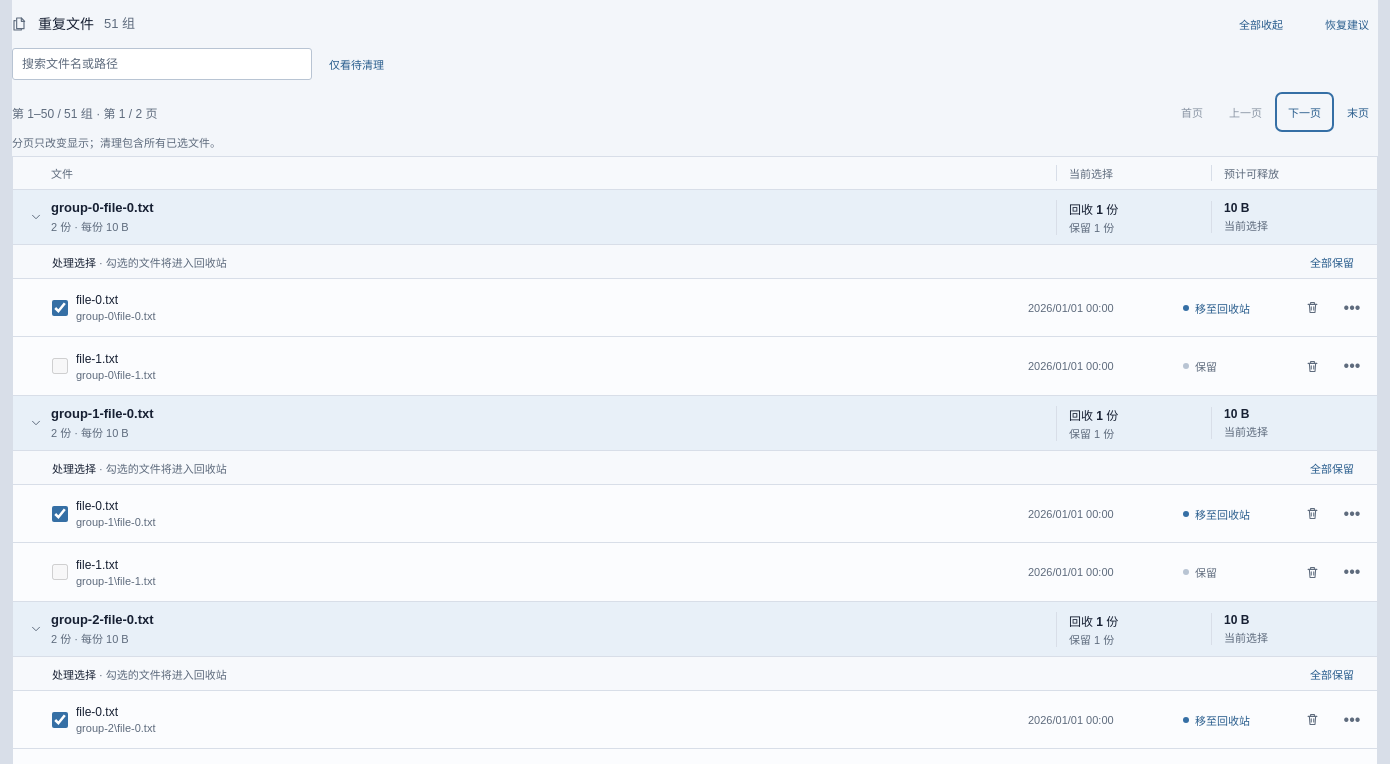
Test: 审阅显示分页 › 只挂载当前50组，键盘翻页后保留跨页选择与有效焦点
Press Enter
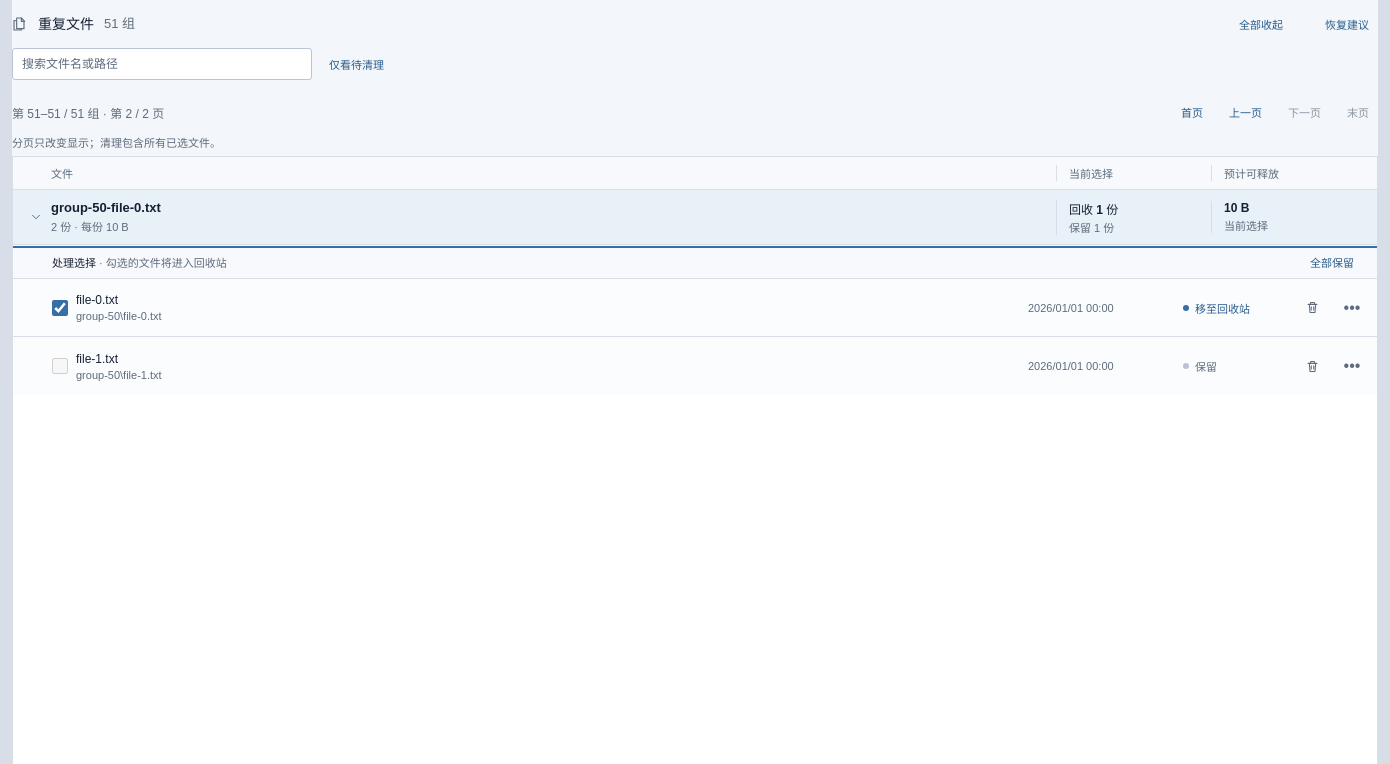
Expected: the number of elements with class "review-group" is 1, [13,190,1377,395]
Click the checkbox named "移至回收站 group-50-file-0.txt" at (60,308), box [52,300,68,316]
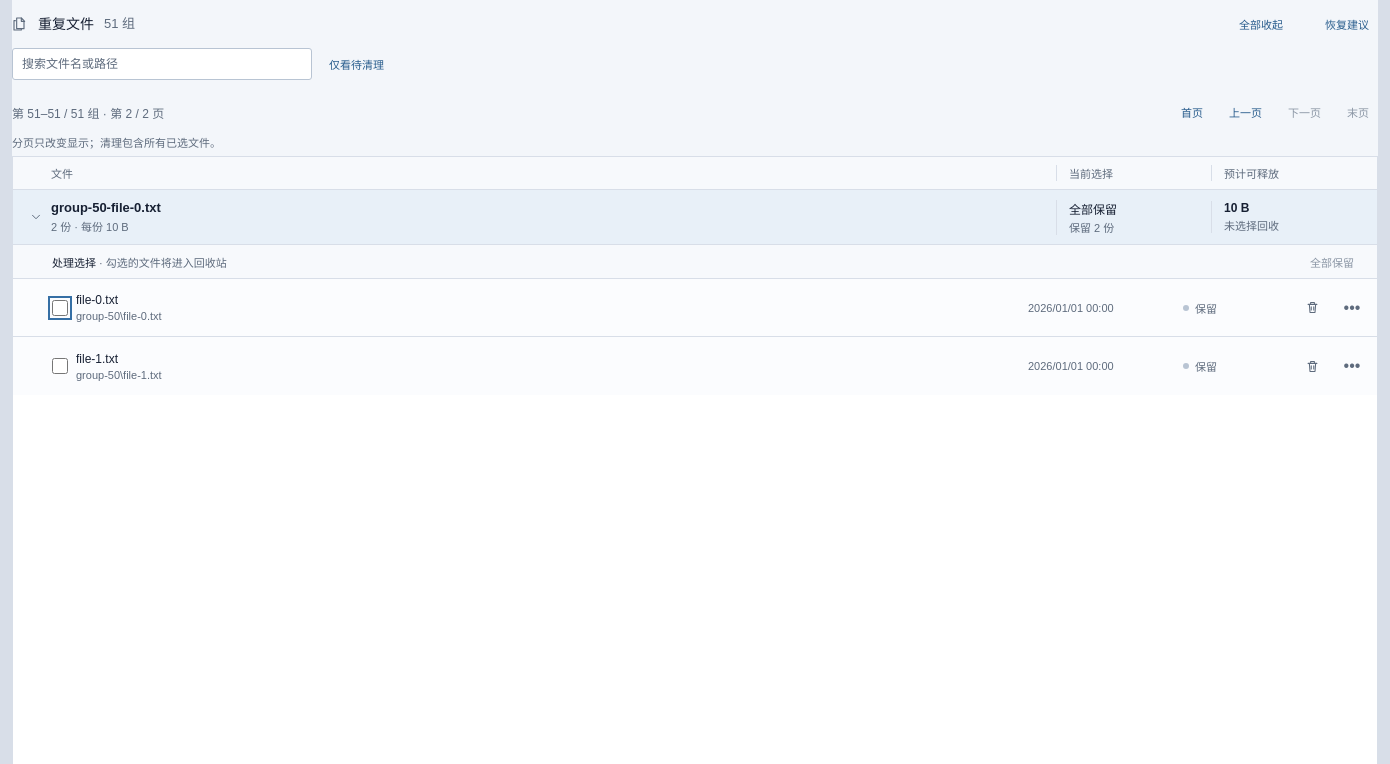
Expected: the checkbox named "移至回收站 group-50-file-0.txt" is not checked, [52,300,68,316]
Click the button with aria-label "重复组：第一页" at (1192,112), box [1172,96,1212,128]
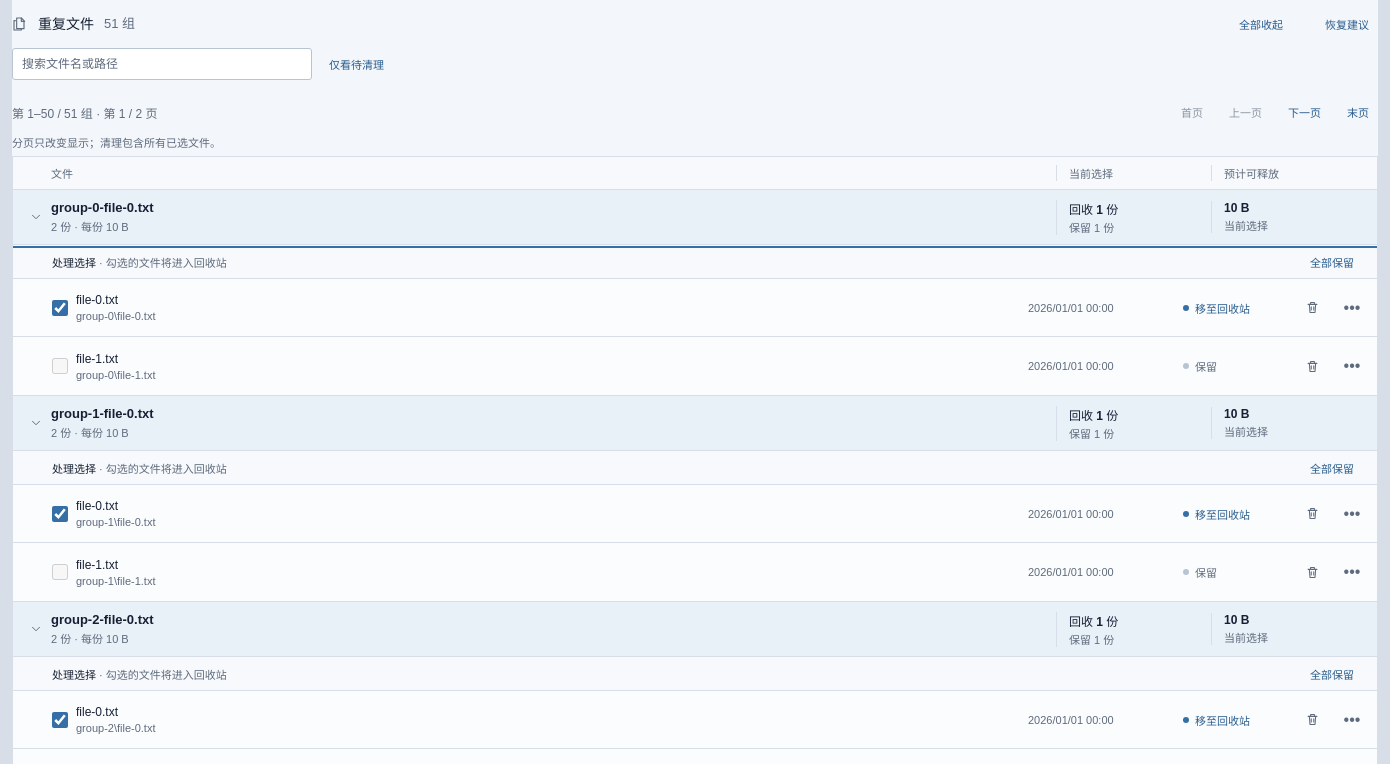
Expected: the checkbox named "移至回收站 group-0-file-0.txt" is checked, [52,300,68,316]
Click the button with aria-label "重复组：最后一页" at (1358,112), box [1338,96,1378,128]
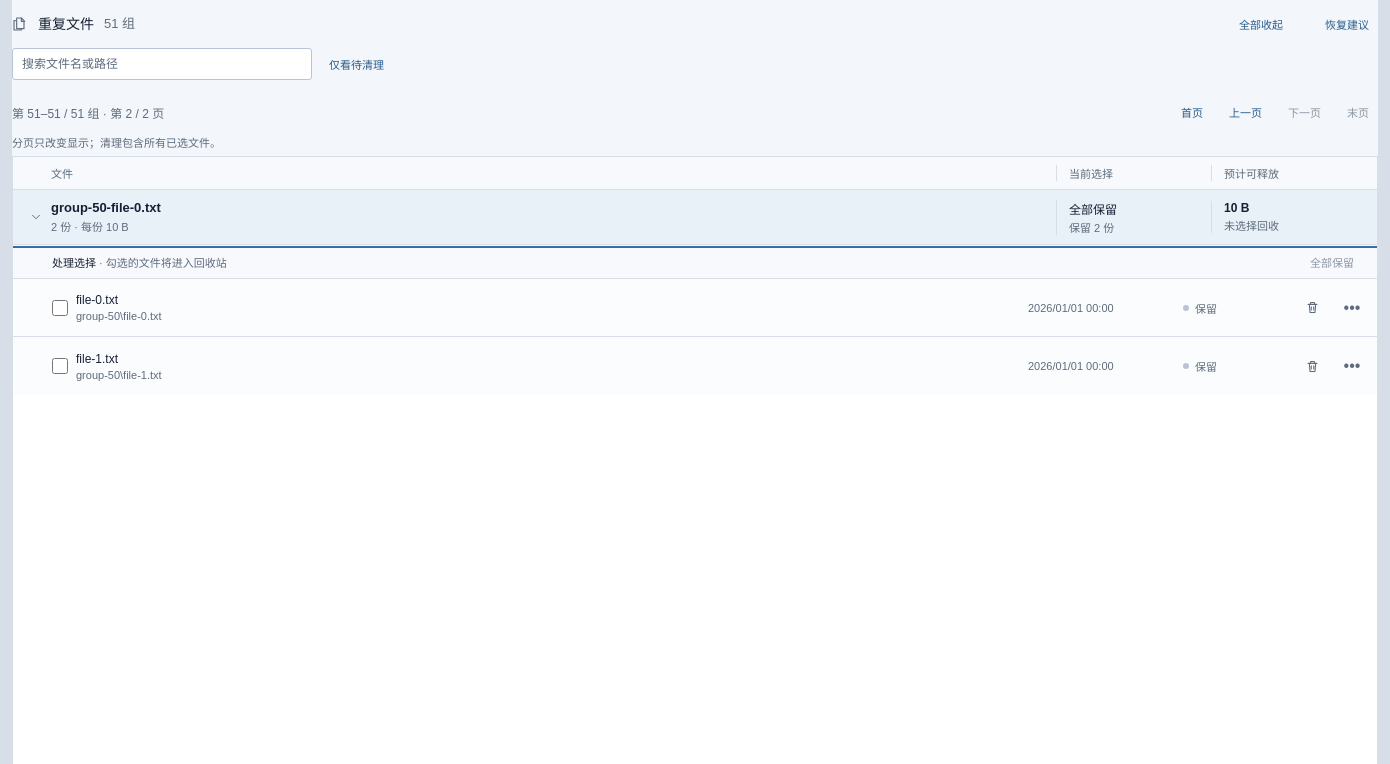
Expected: the checkbox named "移至回收站 group-50-file-0.txt" is not checked, [52,300,68,316]
